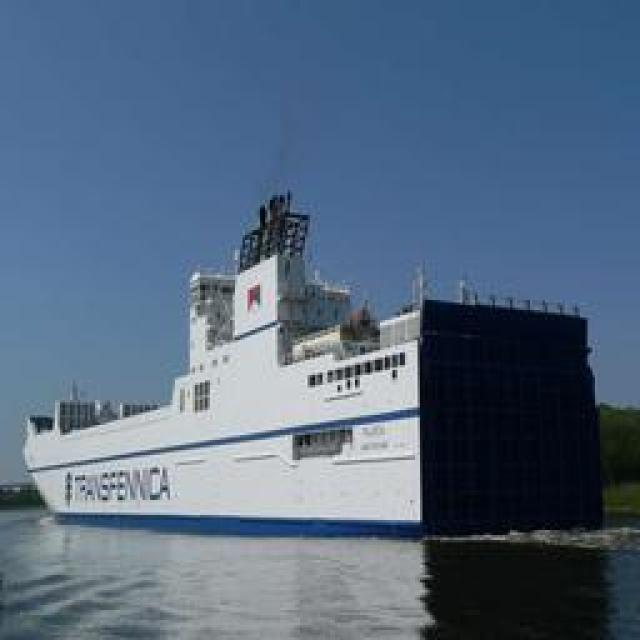ship2: (22, 192, 604, 540)
